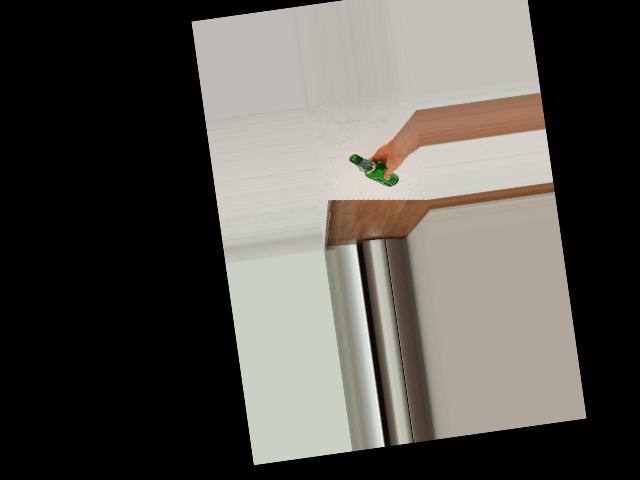beer: (348, 147, 399, 191)
